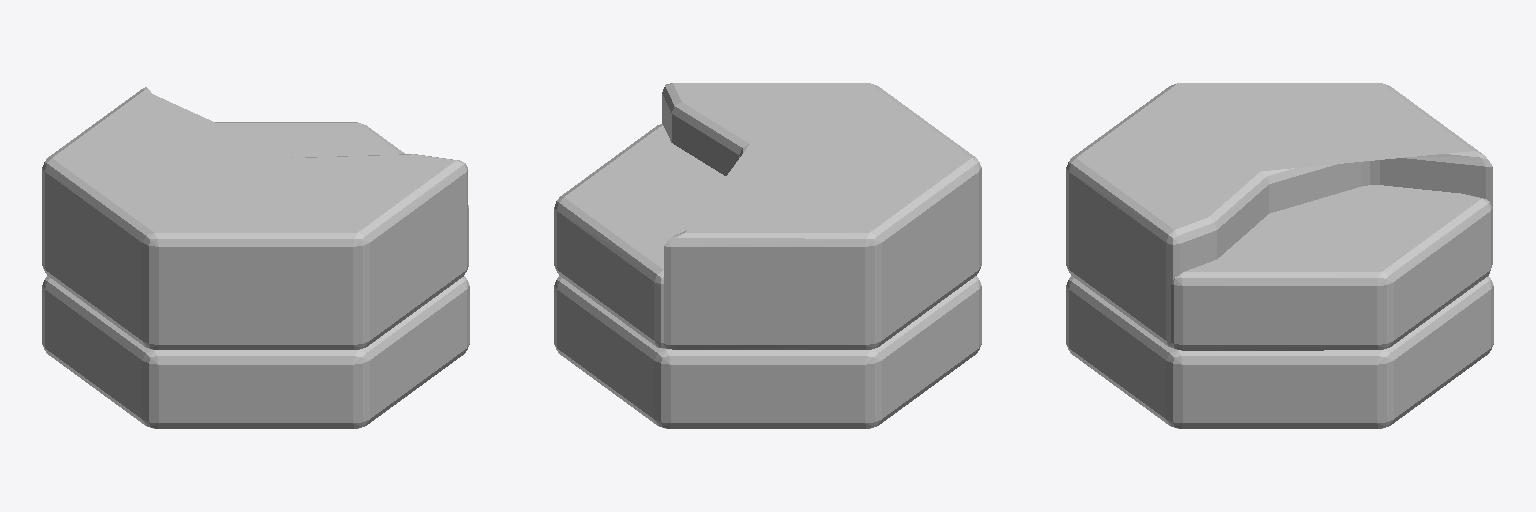
Rendered from ground_water_border1.obj.
3 views of the same model, side by side, from view 1: azimuth 30°, elevation 25°; view 2: azimuth 150°, elevation 25°; view 3: azimuth 270°, elevation 25° (orthographic).
Parts seen in each view (by area): view 1: ground_water_border1; view 2: ground_water_border1; view 3: ground_water_border1.
Part boxes in pixels (bbox=[...]): ground_water_border1: bbox=[42, 87, 469, 428]; ground_water_border1: bbox=[554, 83, 981, 428]; ground_water_border1: bbox=[1066, 83, 1493, 428].
Bounding box in the file's own units: 6.93 × 4 × 7.9.